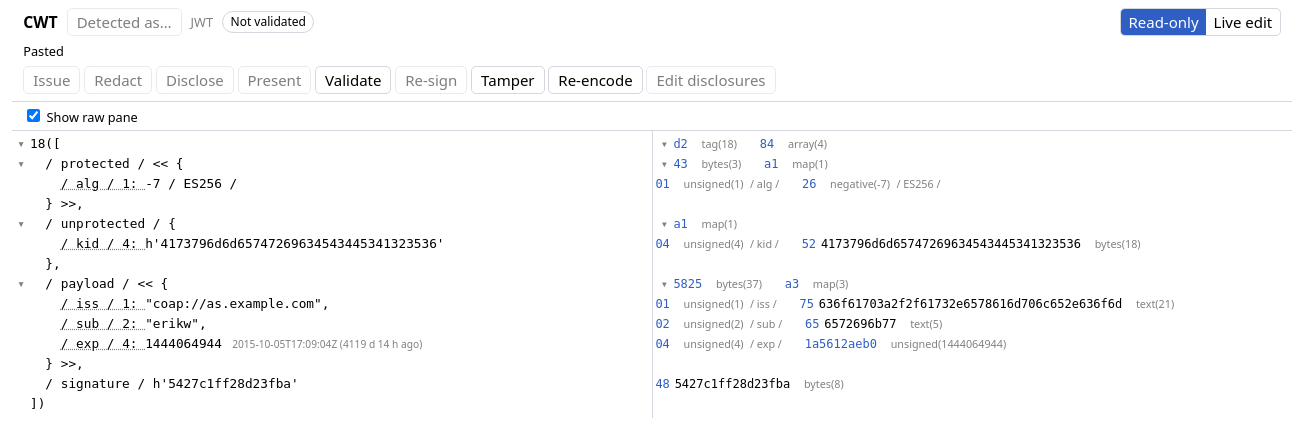
Test: tree sync (COSE) › collapsing in the main pane collapses the raw pane
Click the button "▾" next to "/ payload / << {".
click(21, 284)  # box [12,274,30,294]
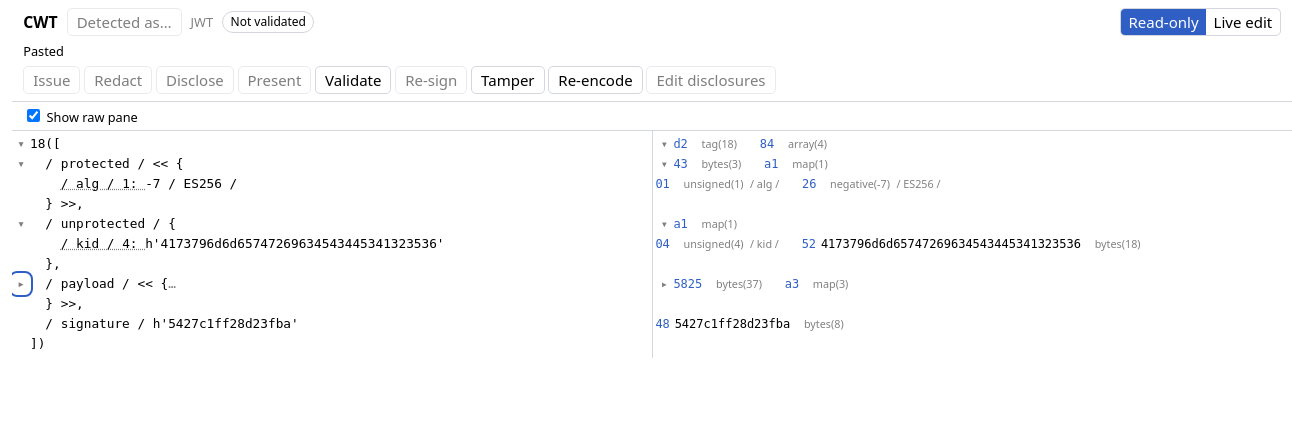
Check: the text "coap://as.example.com" is gone
